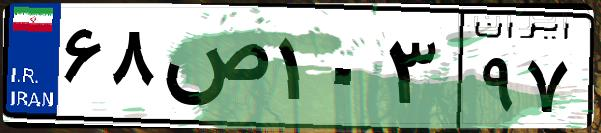0: (330, 28, 385, 110)
1: (270, 28, 330, 110)
3: (385, 28, 445, 110)
6: (57, 26, 110, 100)
7: (525, 38, 570, 115)
8: (110, 28, 158, 98)
9: (475, 38, 525, 113)
ص: (158, 20, 270, 120)
